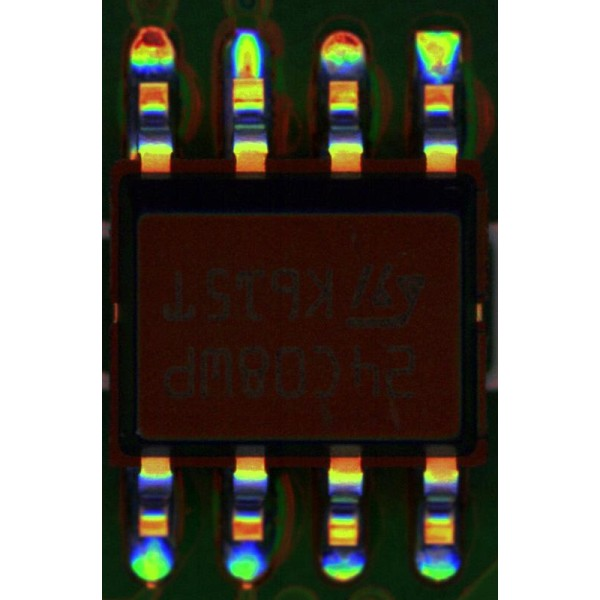Bad_podu: (239, 55, 255, 92)
